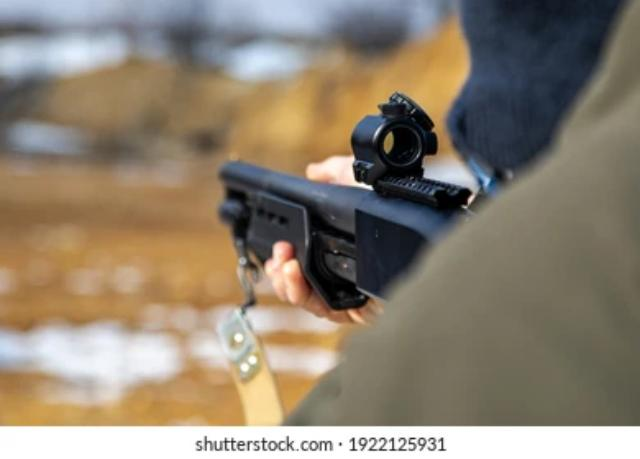other: (270, 52, 640, 411)
